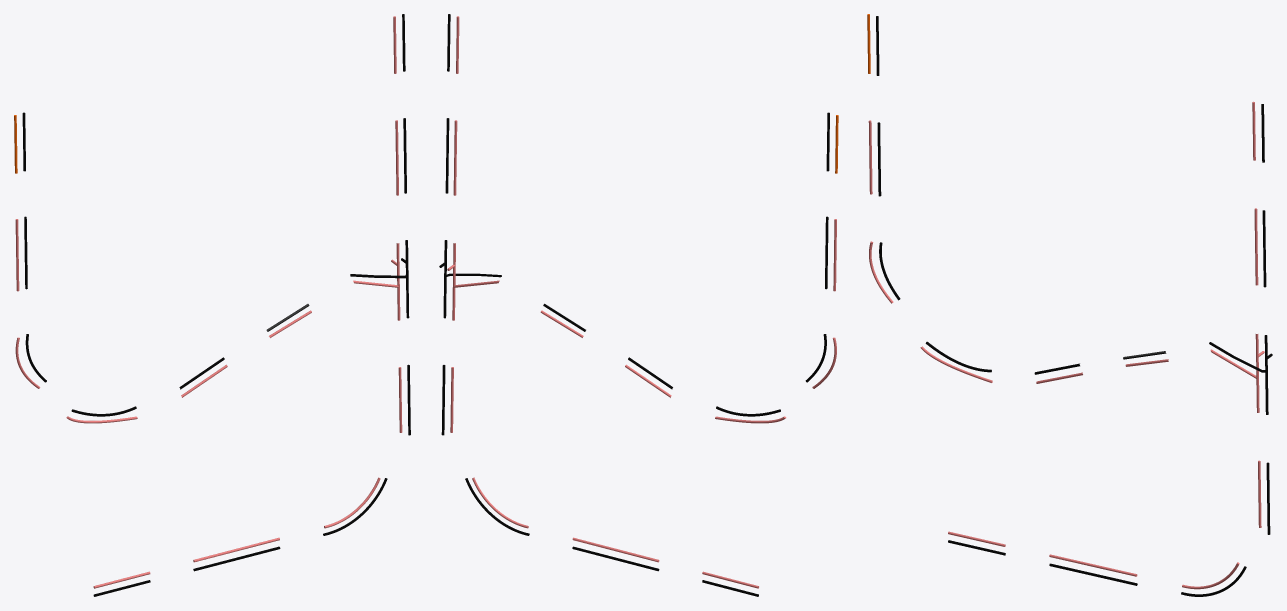
File: led-fixed.glb
The picture shows the model from 3 angles, left to right: view 1: azimuth 30°, elevation 25°; view 2: azimuth 150°, elevation 25°; view 3: azimuth 330°, elevation 25°; orthographic projection.
Visible parts, largest first — view 1: led-fixed; view 2: led-fixed; view 3: led-fixed.
Part boxes in pixels (box(x1,y1,x2,y2)): led-fixed: box(14, 14, 410, 596); led-fixed: box(439, 14, 838, 596); led-fixed: box(867, 14, 1272, 596).
Size of the model in its own units: 34.76 by 42.47 by 1.22.
